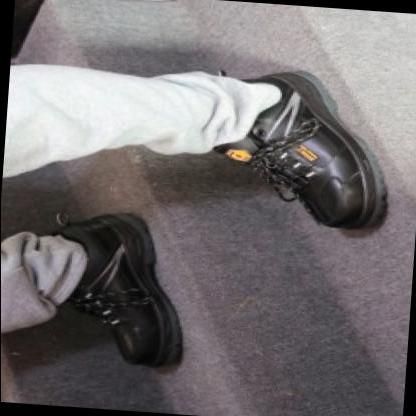safety-shoe: (238, 53, 385, 250), (72, 193, 197, 373)
